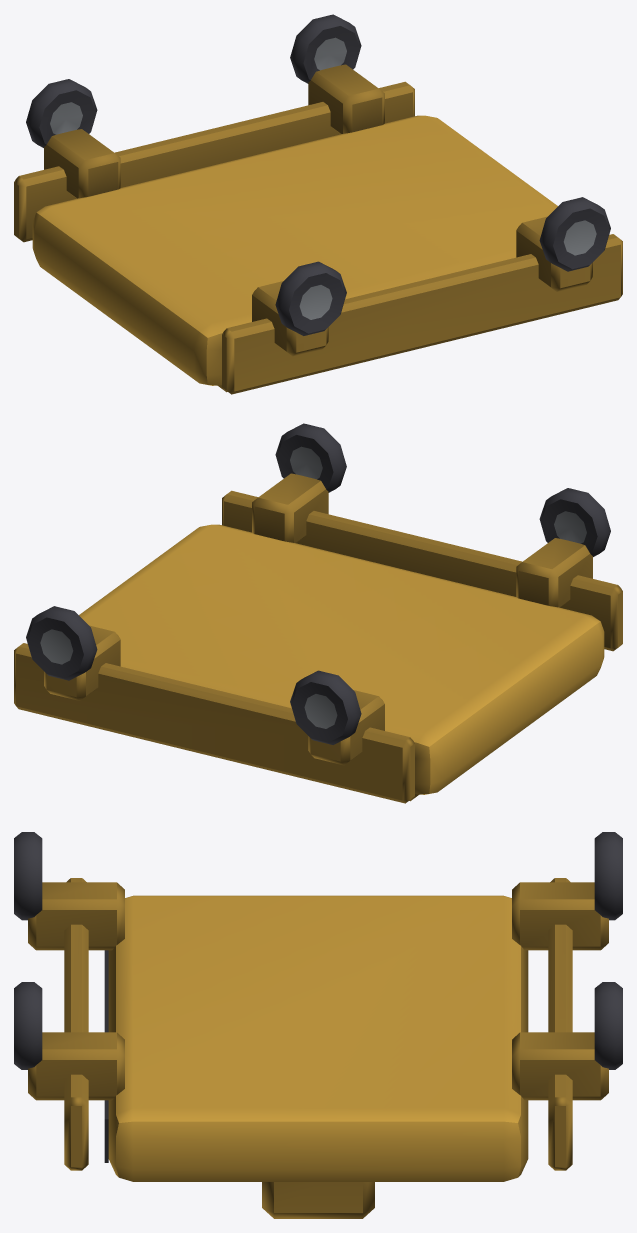
Rendered from CraneTrolley.fbx.
3 renders of one model, top to bottom at view 1: azimuth 30°, elevation 25°; view 2: azimuth 150°, elevation 25°; view 3: azimuth 270°, elevation 25°, orthographic. The views are drawn at different scales.
Parts seen in each view (by area): view 1: CraneTrolley; view 2: CraneTrolley; view 3: CraneTrolley.
Boxes of the visible parts, x1,y1,x2,y2 form: CraneTrolley: (14,14,622,394); CraneTrolley: (14,423,622,803); CraneTrolley: (14,832,622,1218).
Size of the model in its own units: 0.68 by 0.3394 by 0.755.
